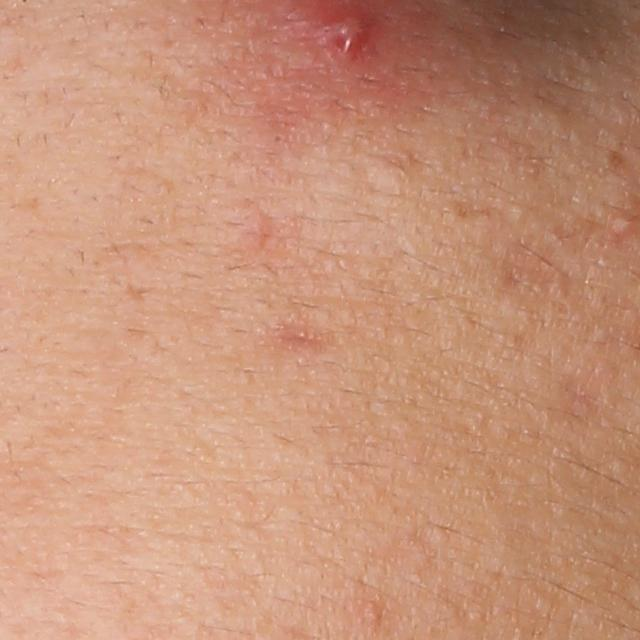papule: (605, 209, 640, 239)
